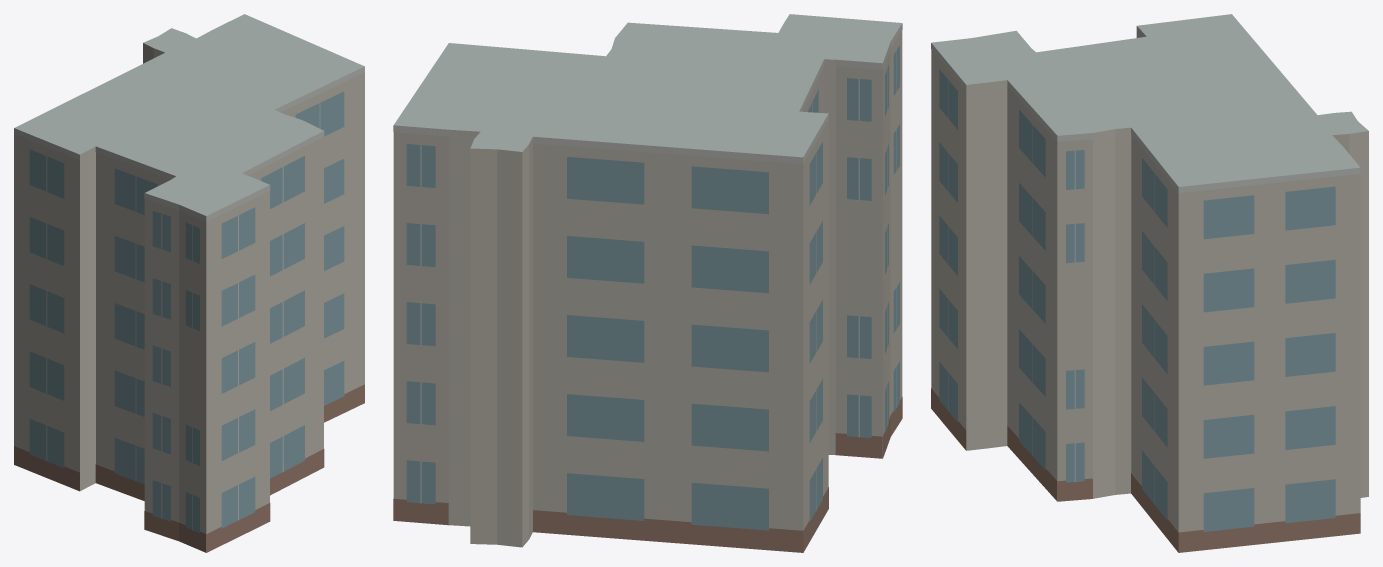
Rendered from survey-upis-32886480.glb.
3 views of the same model, side by side, from view 1: azimuth 30°, elevation 25°; view 2: azimuth 150°, elevation 25°; view 3: azimuth 270°, elevation 25° (orthographic). The views are drawn at different scales.
Visible parts, largest first — view 1: survey-upis-32886480.tmp; view 2: survey-upis-32886480.tmp; view 3: survey-upis-32886480.tmp.
Boxes of the visible parts, x1,y1,x2,y2 form: survey-upis-32886480.tmp: (14, 14, 364, 552); survey-upis-32886480.tmp: (393, 14, 902, 552); survey-upis-32886480.tmp: (931, 14, 1368, 552).
Size of the model in its own units: 14.71 by 14.5 by 15.73.
